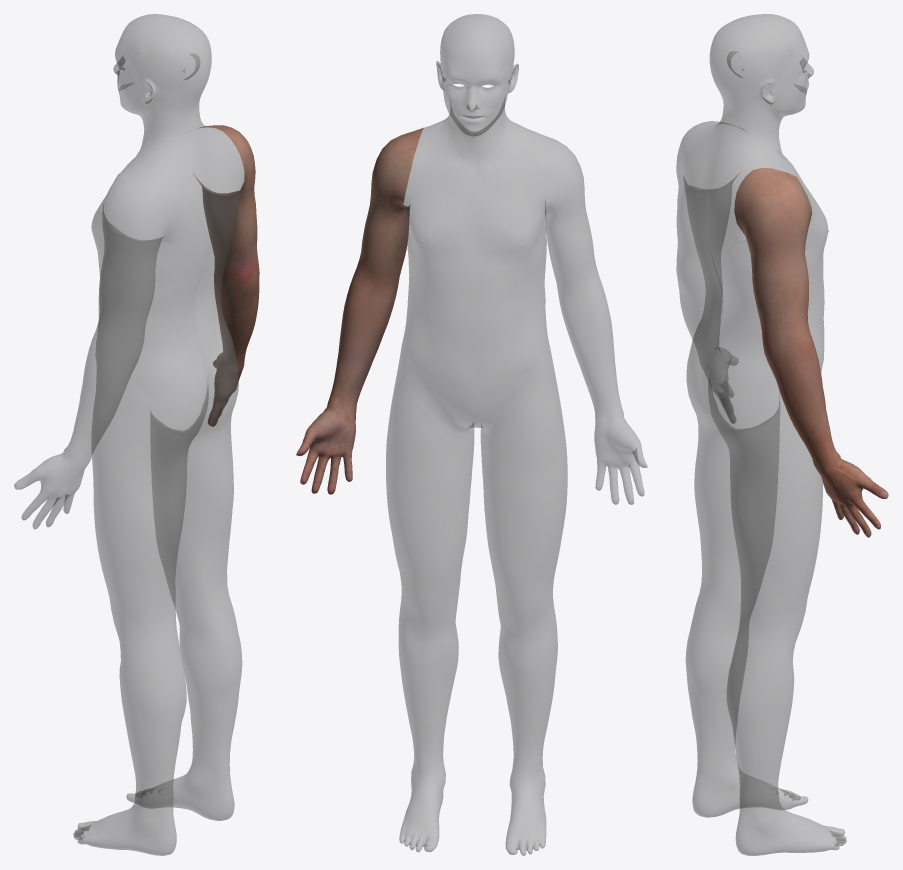
3 renders of one model, left to right at view 1: azimuth 30°, elevation 25°; view 2: azimuth 150°, elevation 25°; view 3: azimuth 270°, elevation 25°, orthographic.
Parts seen in each view (by area): view 1: Body, Arm; view 2: Body, Arm; view 3: Body, Arm.
Part boxes in pixels (x1,y1,x2,y2): Body: (14,14,244,855); Arm: (193,125,259,426); Body: (386,14,647,855); Arm: (296,127,423,494); Body: (676,14,846,855); Arm: (734,168,888,537).
Bounding box in the file's own units: 0.6185 × 1.71 × 0.4046.
3 materials, 1 textured.
